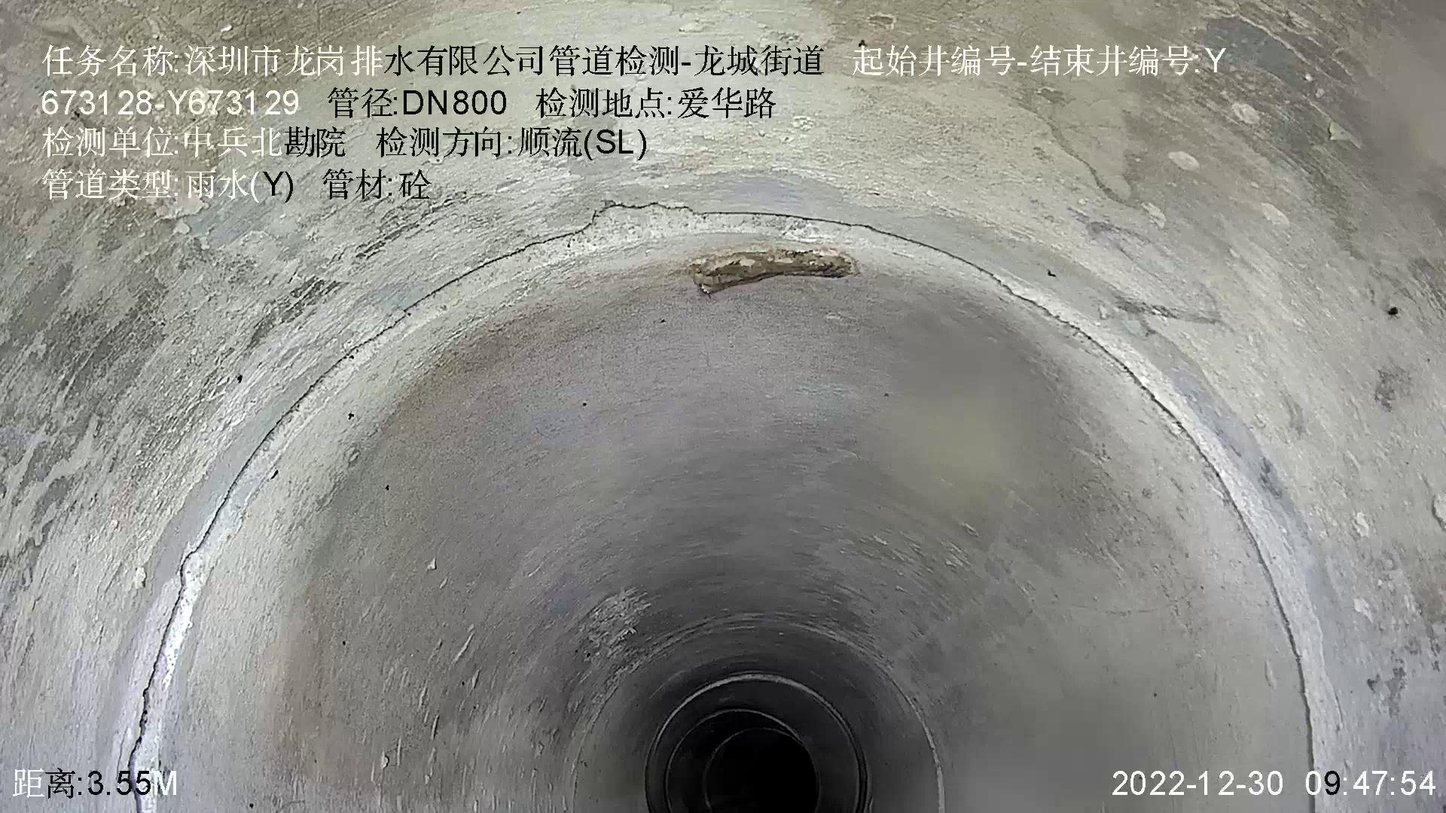CKTJ: (133, 203, 1184, 760)
